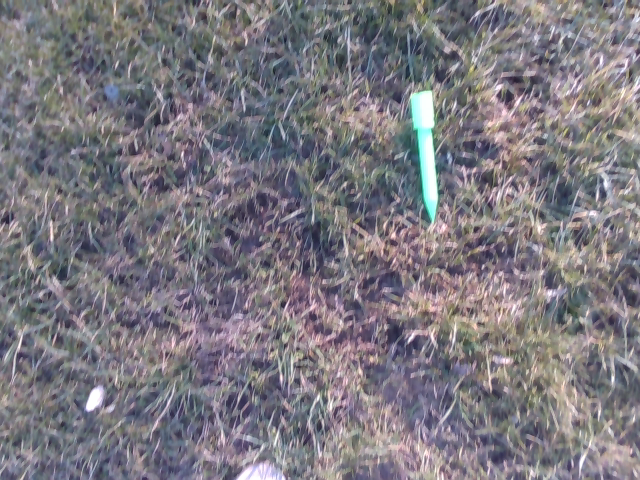Probe: (406, 88, 444, 226)
